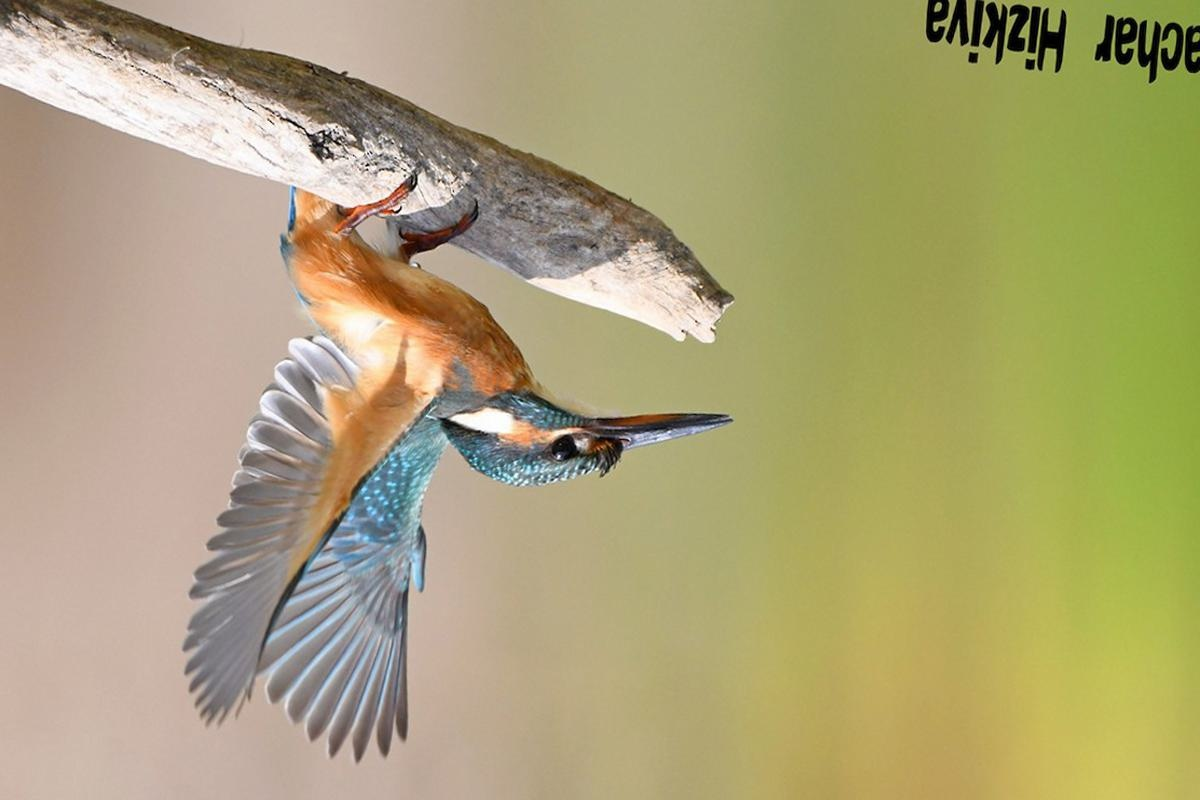kingfisher: (151, 145, 758, 733)
